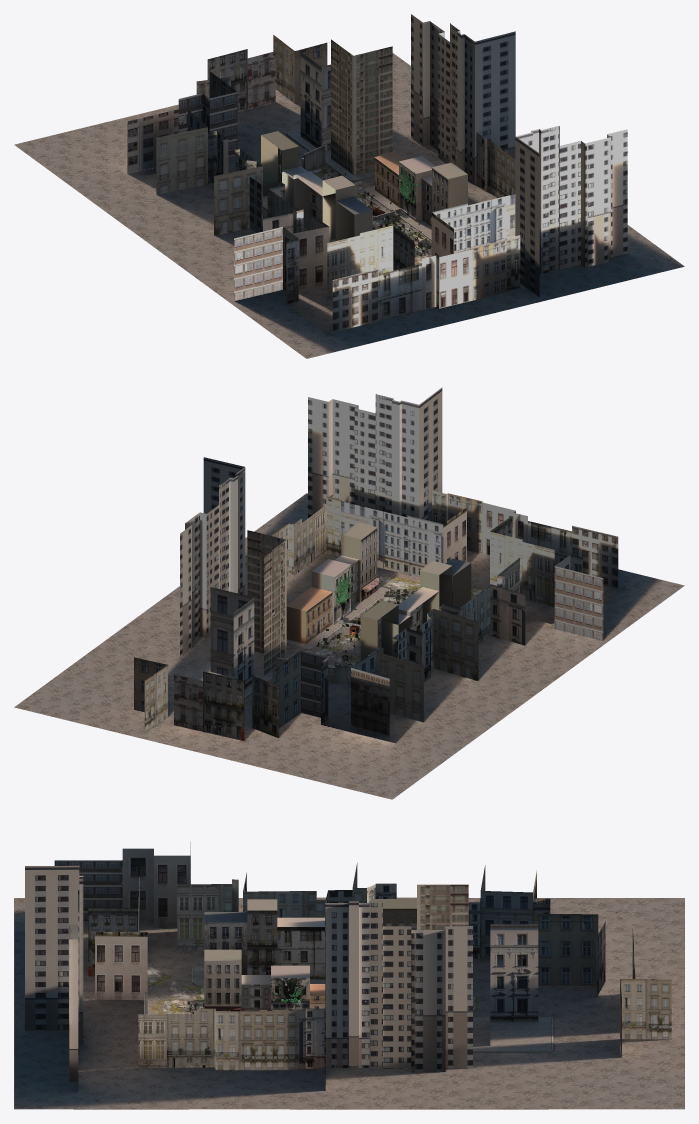
Rendered from city.glb.
3 views of the same model, one above another, from view 1: azimuth 30°, elevation 25°; view 2: azimuth 150°, elevation 25°; view 3: azimuth 270°, elevation 25° (orthographic). The views are drawn at different scales.
Parts seen in each view (by area): view 1: 42526024.016_0, 42526024.001_0, 42526024.015_0, TexturesCom_HighRiseResidential0035_S_0, TexturesCom_BuildingsDerelict0001_M_0, 42526024.005_0, Circle_0, TexturesCom_RoadsBarriers0011_4_S_0; view 2: 42526024.016_0, 42526024.001_0, 42526024.015_0, TexturesCom_HighRiseResidential0035_S_0, TexturesCom_BuildingsDerelict0001_M_0, 42526024.005_0, Circle_0; view 3: 42526024.001_0, 42526024.015_0, 42526024.005_0, 42526024.016_0, TexturesCom_BuildingsDerelict0001_M_0, TexturesCom_HighRiseResidential0035_S_0, Circle_0, IVY_Curve.001_1.
Boxes of the visible parts, x1,y1,x2,y2 form: 42526024.016_0: [127, 42, 627, 332]; 42526024.001_0: [14, 53, 684, 358]; 42526024.015_0: [202, 14, 515, 257]; TexturesCom_HighRiseResidential0035_S_0: [331, 39, 467, 226]; TexturesCom_BuildingsDerelict0001_M_0: [261, 131, 372, 240]; 42526024.005_0: [188, 71, 438, 308]; Circle_0: [263, 130, 431, 242]; TexturesCom_RoadsBarriers0011_4_S_0: [303, 145, 426, 244]; 42526024.016_0: [134, 387, 618, 740]; 42526024.001_0: [14, 493, 684, 799]; 42526024.015_0: [144, 457, 466, 733]; TexturesCom_HighRiseResidential0035_S_0: [247, 522, 382, 674]; TexturesCom_BuildingsDerelict0001_M_0: [360, 558, 471, 660]; 42526024.005_0: [272, 500, 570, 728]; Circle_0: [189, 586, 390, 698]; 42526024.001_0: [14, 897, 684, 1109]; 42526024.015_0: [95, 898, 671, 1084]; 42526024.005_0: [54, 848, 598, 1014]; 42526024.016_0: [25, 841, 635, 1081]; TexturesCom_BuildingsDerelict0001_M_0: [204, 899, 416, 979]; TexturesCom_HighRiseResidential0035_S_0: [204, 884, 468, 1011]; Circle_0: [191, 965, 553, 1052]; IVY_Curve.001_1: [271, 965, 308, 1005].
Size of what is drawn, in the model's own units: 78.61 by 28.7 by 105.
23 materials, 23 textured.
